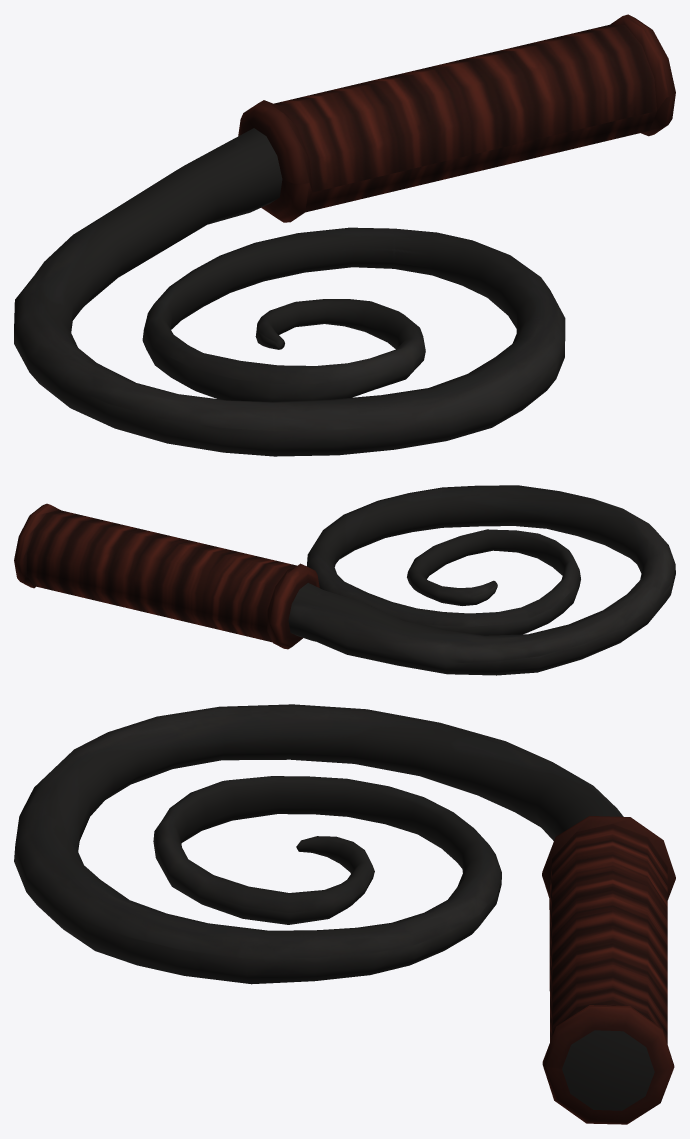
Rendered from RingmasterWhip.fbx.
3 renders of one model, top to bottom at view 1: azimuth 30°, elevation 25°; view 2: azimuth 150°, elevation 25°; view 3: azimuth 270°, elevation 25°, orthographic. The views are drawn at different scales.
Visible parts, largest first — view 1: RingmasterWhip_CurledHIGH1; view 2: RingmasterWhip_CurledHIGH1; view 3: RingmasterWhip_CurledHIGH1.
Boxes of the visible parts, x1,y1,x2,y2 form: RingmasterWhip_CurledHIGH1: (14, 14, 675, 456); RingmasterWhip_CurledHIGH1: (14, 485, 675, 675); RingmasterWhip_CurledHIGH1: (14, 704, 675, 1124).
Size of the model in its own units: 42.36 by 6.44 by 31.05.
